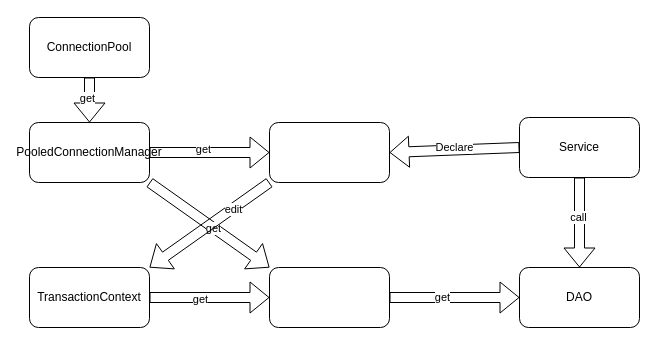
Image size: 657x345. Some labels were removed from this diagram. Here are the shapes that lost their labels. From the top down, the box of each, then its label:
(268, 122, 390, 182): TransactionManager
(268, 266, 390, 328): TXAwareConnectionManager
